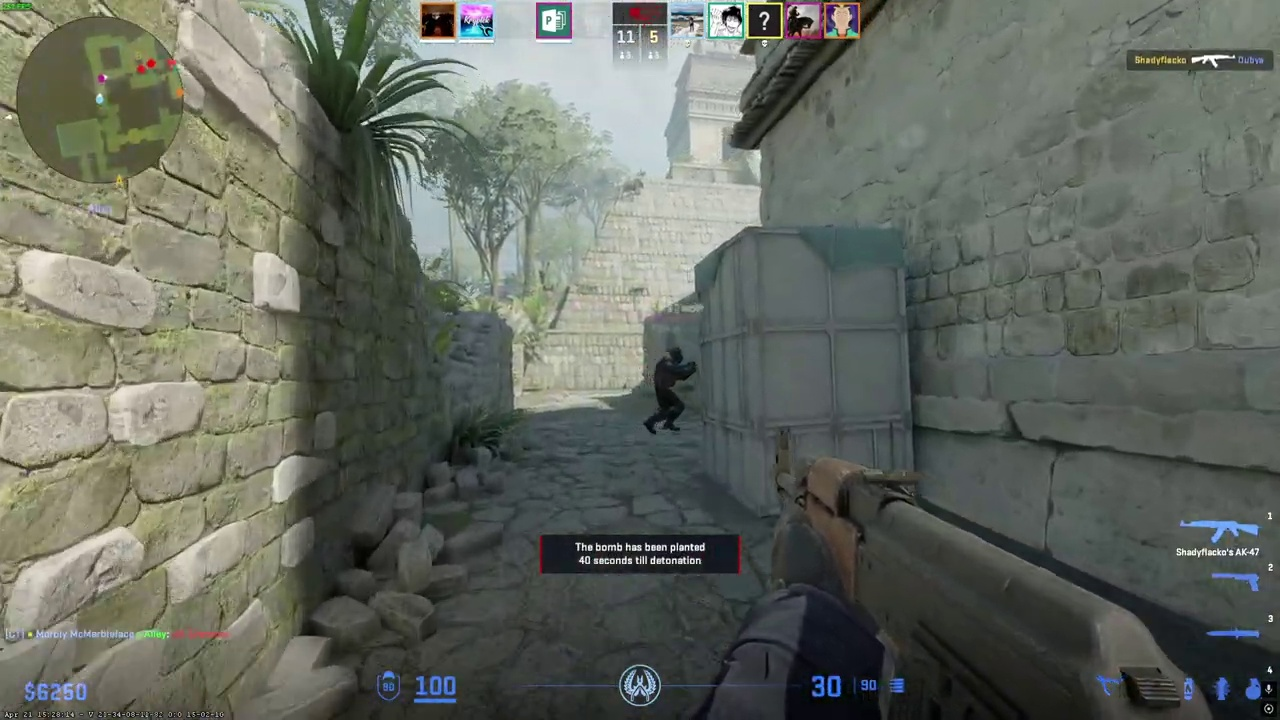CT: (646, 346, 691, 435)
